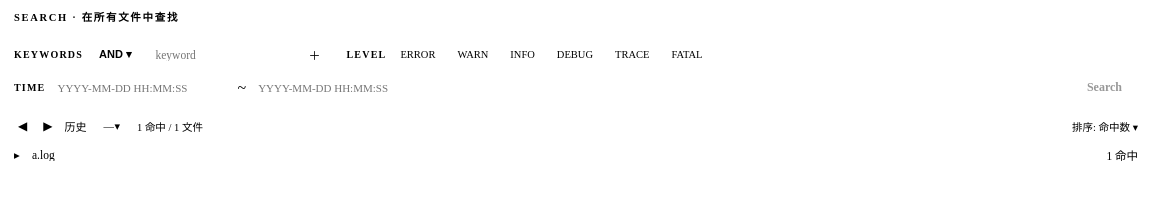
Test: SearchPanel results › collapses the expanded rows on a second click
This screenshot has width=1152, height=201.
Click the button "▸ a.log 1 命中".
click(17, 155)  # box [14,149,1138,162]
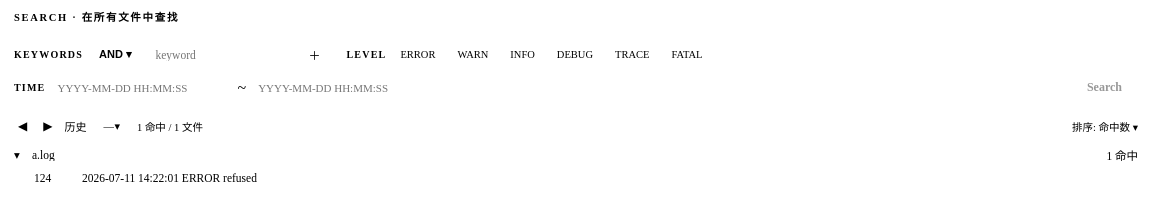
Now the text "2026-07-11 14:22:01 ERROR refused" is shown, box [82,172,257,184]
Now the button "▾ a.log 1 命中" is expanded
Click the button "▾ a.log 1 命中".
click(17, 155)  # box [14,149,1138,162]
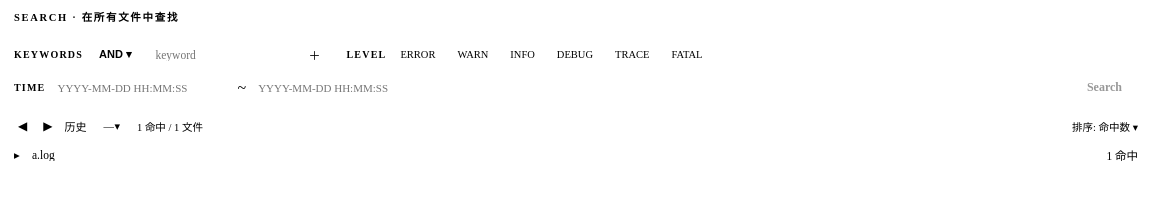
Now the button "▸ a.log 1 命中" is collapsed, box [14,149,1138,162]
